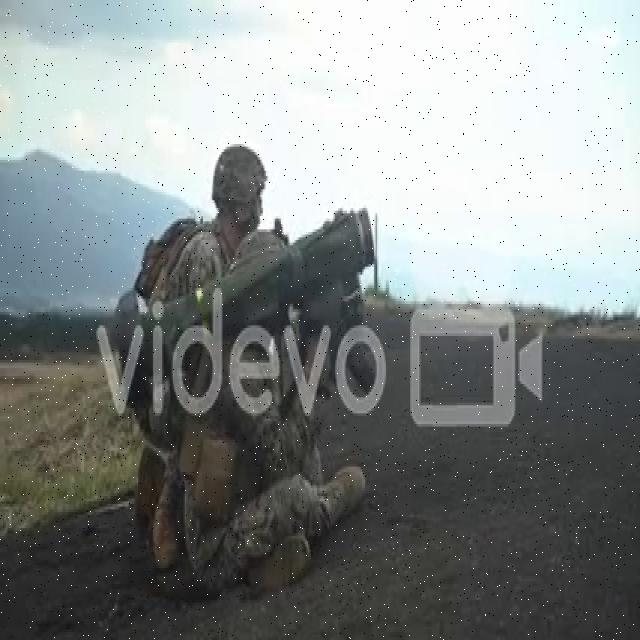bazooka: (112, 201, 380, 433)
